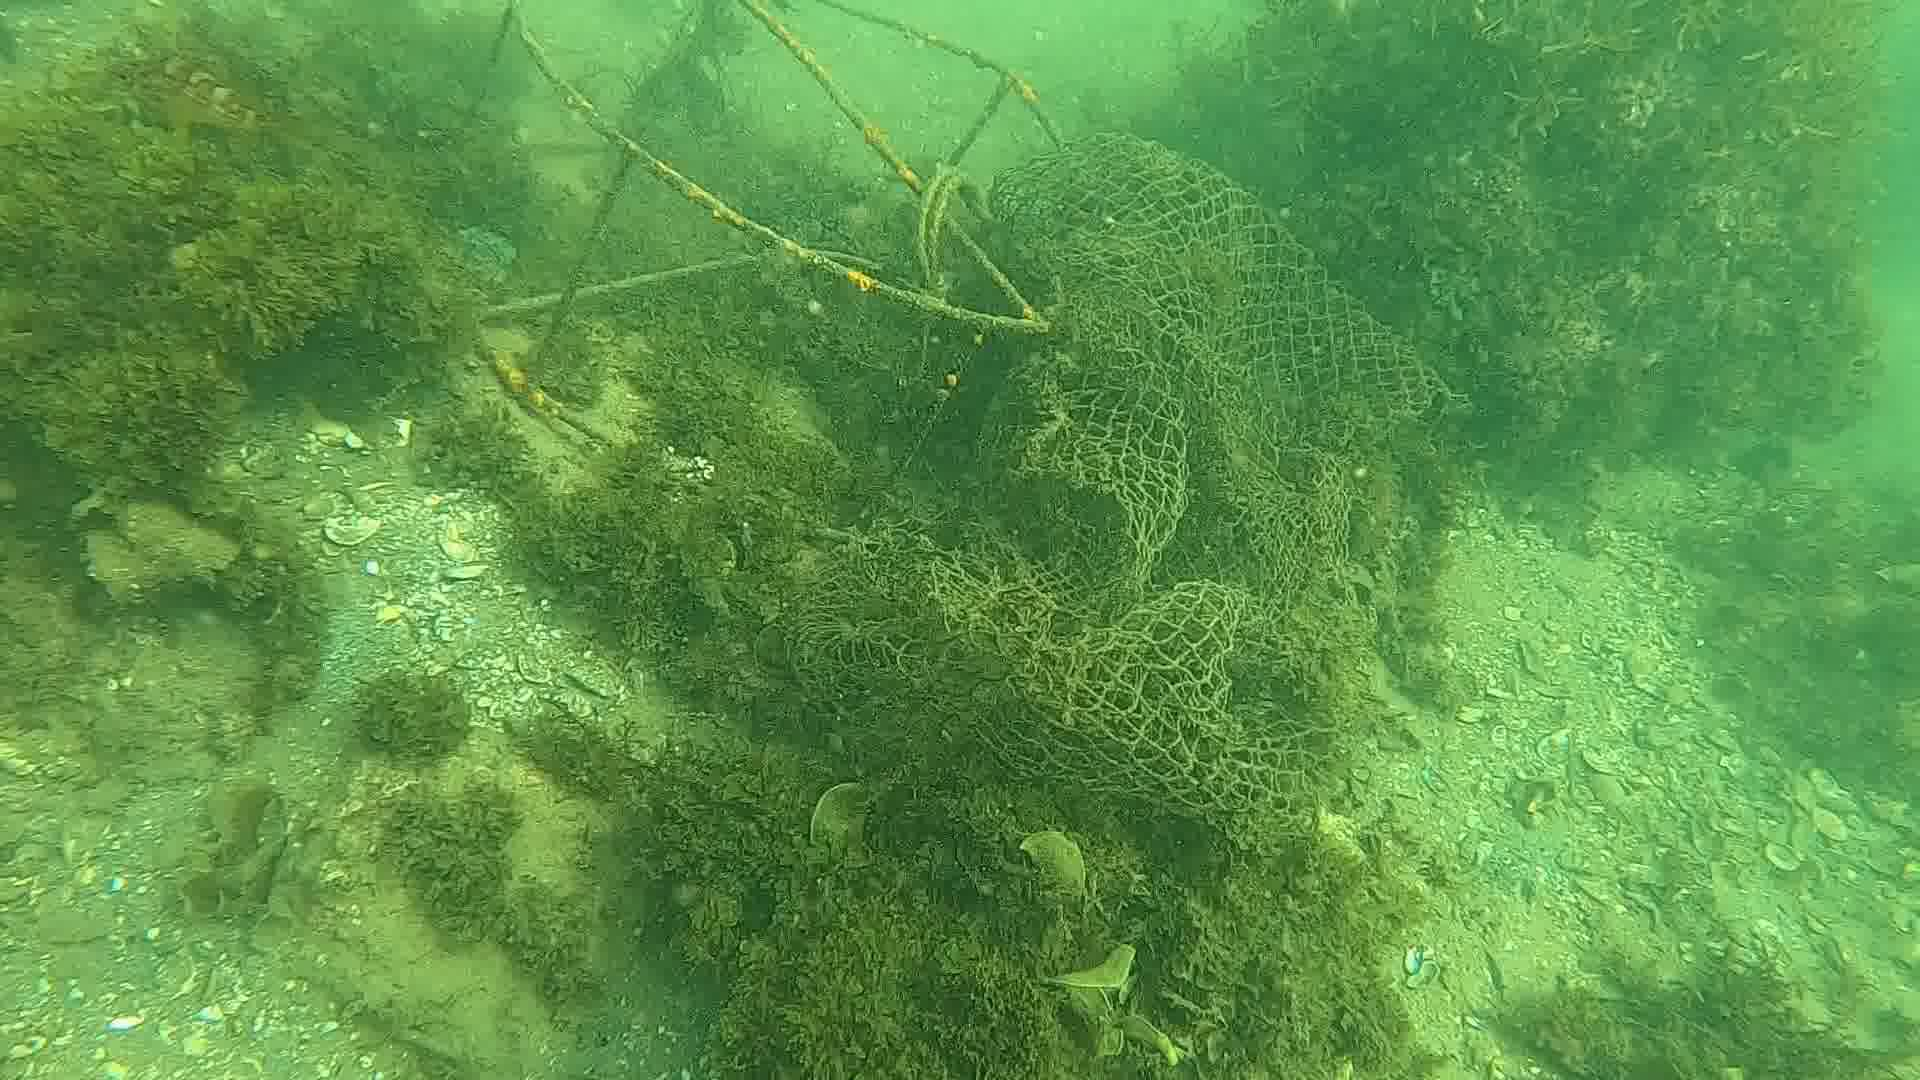bundle of ropes: (913, 161, 992, 282)
fish net: (781, 128, 1448, 833)
